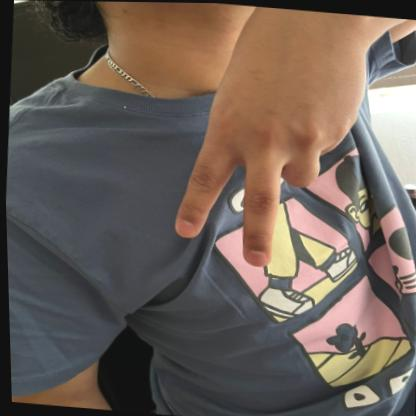N: (165, 11, 373, 275)
